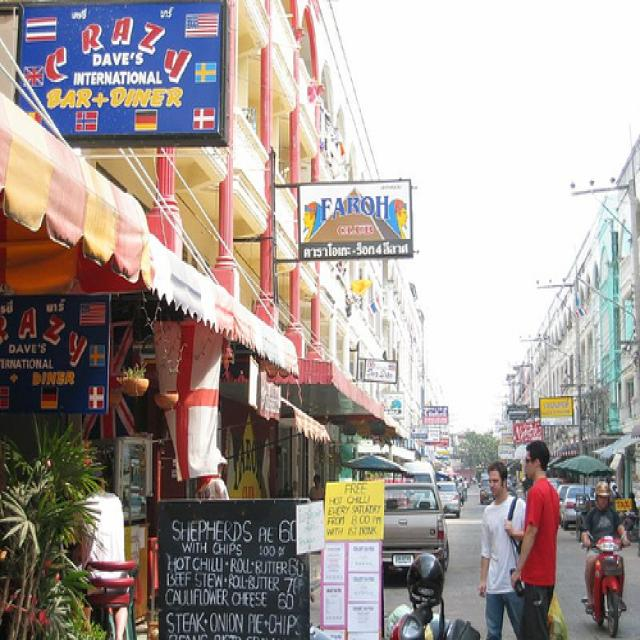motor: (383, 557, 478, 632), (587, 528, 628, 630), (382, 628, 483, 640)
